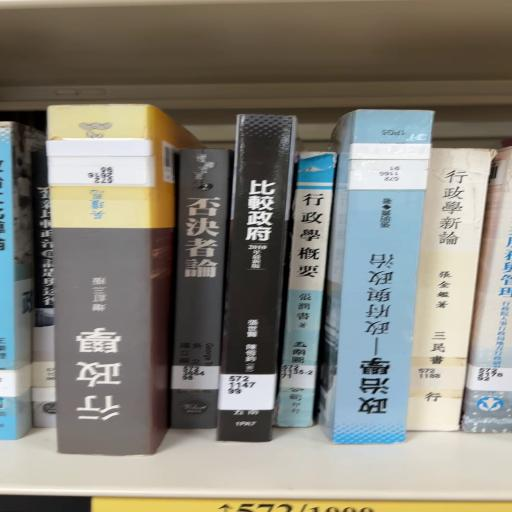reverse: (47, 106, 204, 457), (320, 110, 435, 445)
